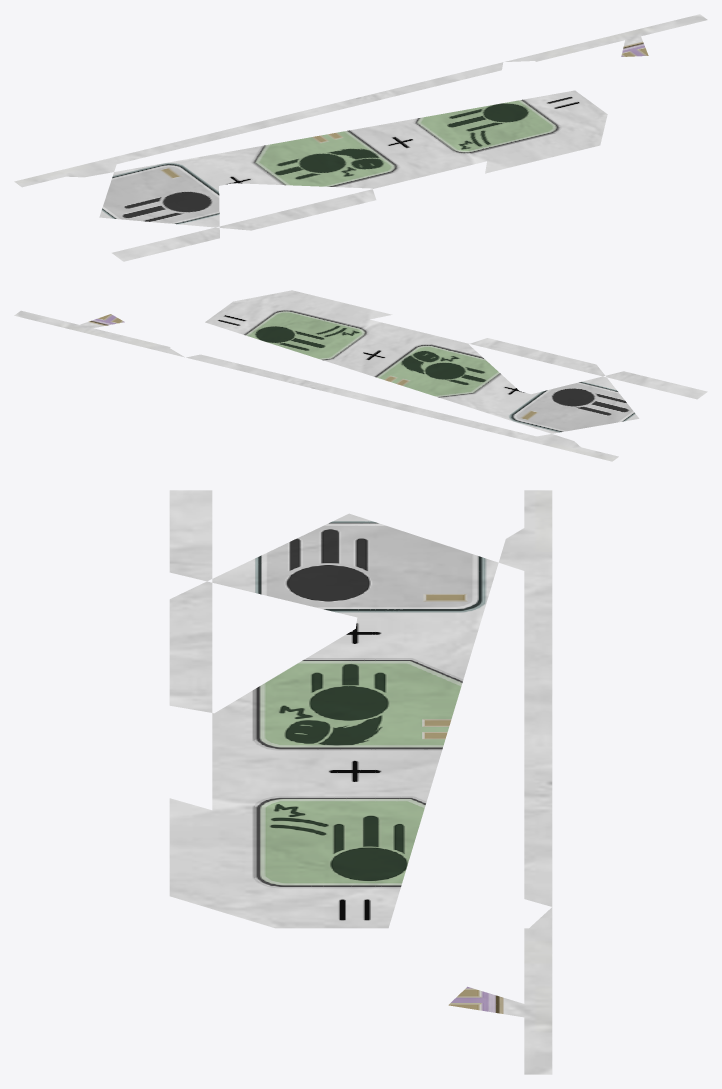
File: Blueprint7.fbx
The picture shows the model from 3 angles, top to bottom: view 1: azimuth 30°, elevation 25°; view 2: azimuth 150°, elevation 25°; view 3: azimuth 270°, elevation 25°; orthographic projection. The views are drawn at different scales.
Visible parts, largest first — view 1: 平面.006; view 2: 平面.006; view 3: 平面.006.
Boxes of the visible parts, x1,y1,x2,y2 form: 平面.006: [14, 14, 707, 261]; 平面.006: [14, 290, 707, 461]; 平面.006: [169, 490, 552, 1074].
Size of the model in its own units: 252 by 0 by 69.86.
1 material, 1 textured.
